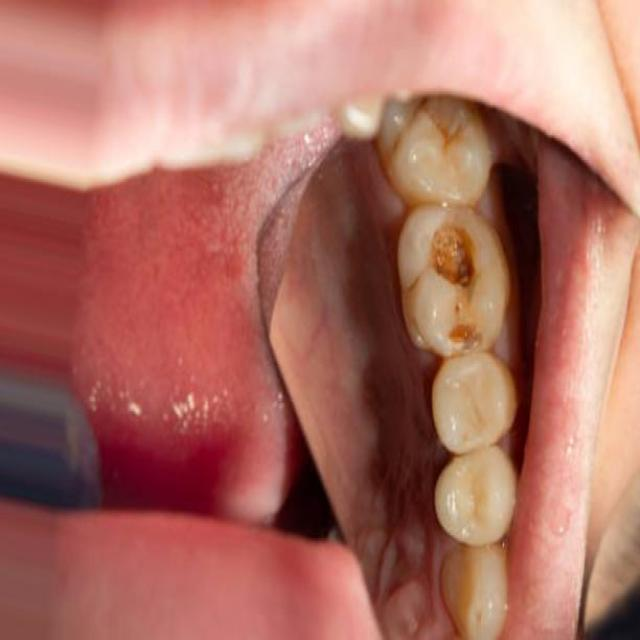caries: (402, 203, 494, 356)
